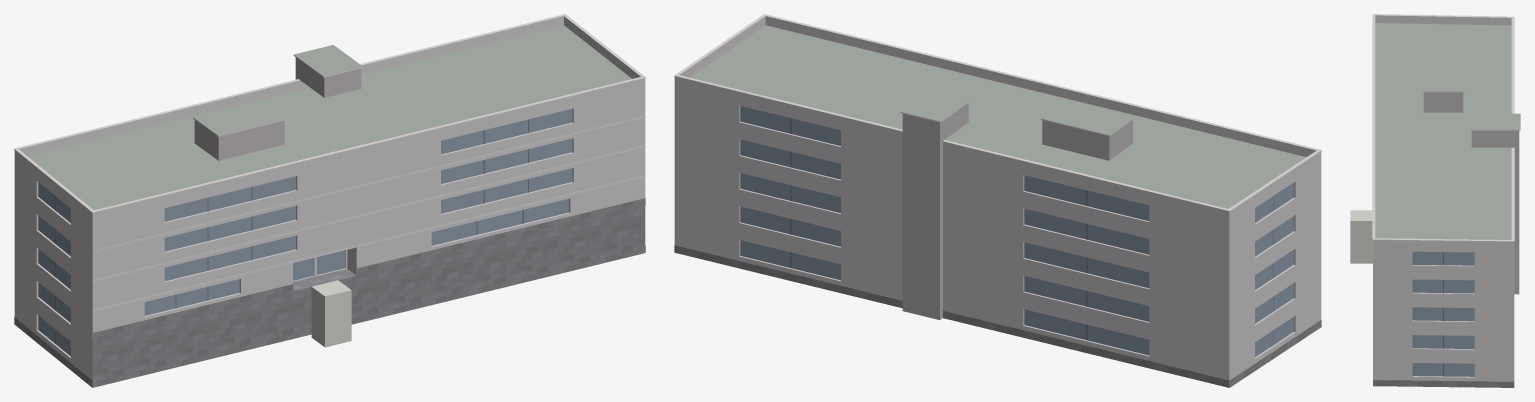
3 views of the same model, side by side, from view 1: azimuth 30°, elevation 25°; view 2: azimuth 150°, elevation 25°; view 3: azimuth 270°, elevation 25° (orthographic). The views are drawn at different scales.
Parts seen in each view (by area): view 1: b19__wall, b19__roof, b19__base, b19__glass, b19__parapet, b19__trim, b19__wall2, b19__entranceStair; view 2: b19__wall, b19__roof, b19__glass, b19__parapet, b19__wall2, b19__base, b19__trim; view 3: b19__roof, b19__wall, b19__glass, b19__wall2, b19__trim, b19__parapet, b19__entranceStair, b19__base.
Boxes of the visible parts, left/top/right/bottom form: b19__wall: left=14, top=86, right=645, bottom=387; b19__roof: left=27, top=25, right=643, bottom=387; b19__base: left=14, top=198, right=645, bottom=387; b19__glass: left=38, top=109, right=572, bottom=356; b19__parapet: left=14, top=16, right=645, bottom=220; b19__trim: left=14, top=14, right=645, bottom=311; b19__wall2: left=194, top=57, right=361, bottom=160; b19__entranceStair: left=311, top=280, right=351, bottom=347; b19__wall: left=674, top=85, right=1321, bottom=387; b19__roof: left=689, top=25, right=1306, bottom=208; b19__glass: left=740, top=106, right=1293, bottom=357; b19__parapet: left=674, top=16, right=1321, bottom=219; b19__wall2: left=902, top=102, right=1132, bottom=319; b19__base: left=674, top=245, right=1321, bottom=387; b19__trim: left=674, top=14, right=1321, bottom=211; b19__roof: left=1375, top=23, right=1520, bottom=239; b19__wall: left=1373, top=247, right=1514, bottom=381; b19__glass: left=1412, top=251, right=1474, bottom=376; b19__wall2: left=1423, top=92, right=1519, bottom=294; b19__trim: left=1372, top=14, right=1520, bottom=241; b19__parapet: left=1373, top=15, right=1514, bottom=248; b19__entranceStair: left=1350, top=210, right=1372, bottom=263; b19__base: left=1373, top=380, right=1514, bottom=387.
Size of the model in its own units: 63.13 by 21.74 by 19.98.
Materials: 10 (1 with a texture image).
